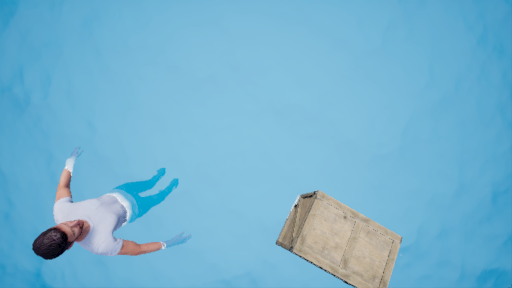person: (39, 138, 185, 267)
